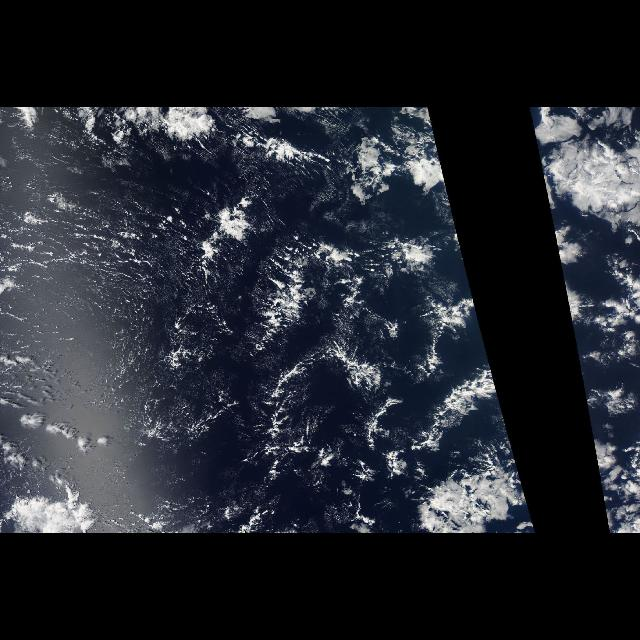Flower: (362, 111, 536, 534), (526, 111, 640, 534)
Sugar: (136, 192, 440, 476)
